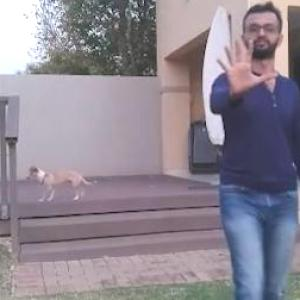follow_hand: (212, 32, 280, 99)
